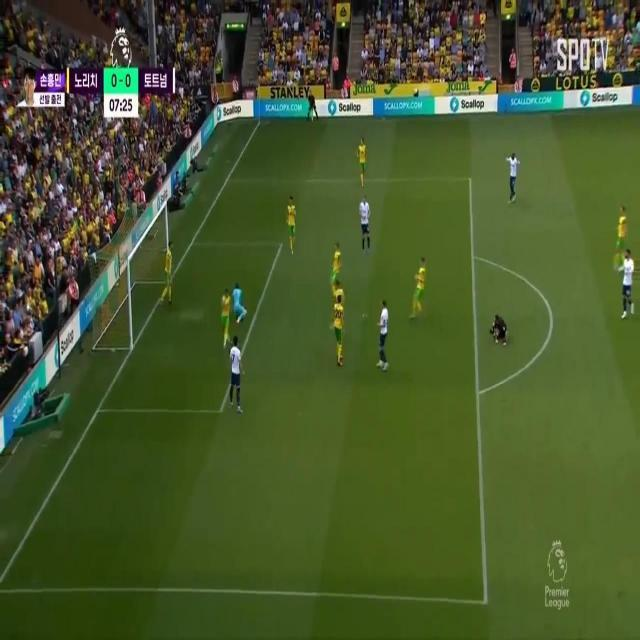goalkeeper: (232, 275, 251, 337)
player: (613, 198, 634, 273), (329, 296, 351, 363), (620, 250, 640, 320), (228, 332, 244, 414), (374, 298, 393, 367), (412, 254, 428, 324), (357, 190, 373, 249), (287, 184, 298, 260), (508, 147, 521, 209), (330, 234, 343, 294), (221, 284, 232, 342), (333, 270, 345, 323), (164, 233, 173, 295), (358, 133, 368, 182)
referee: (491, 312, 517, 347), (305, 87, 321, 128)
